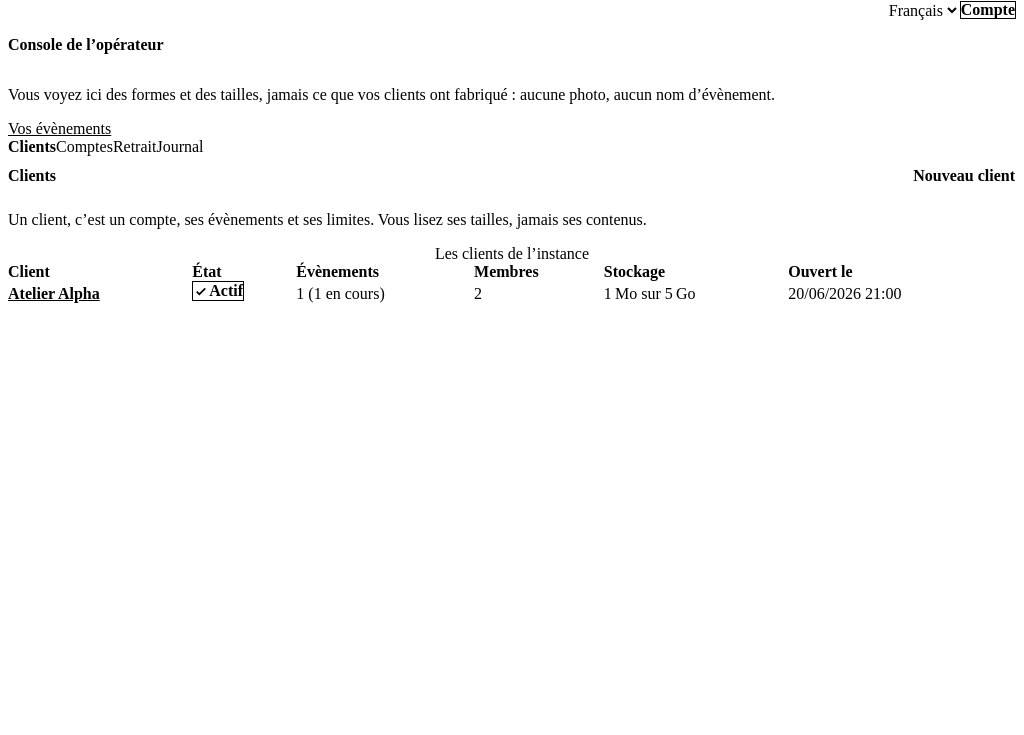
Test: opening a client › the invitation link that exists nowhere else (H10) › asks before following the link to the client, and says what is lost
Click the button "Nouveau client": coordinates (964, 176) x1=912 y1=167 x2=1016 y2=185
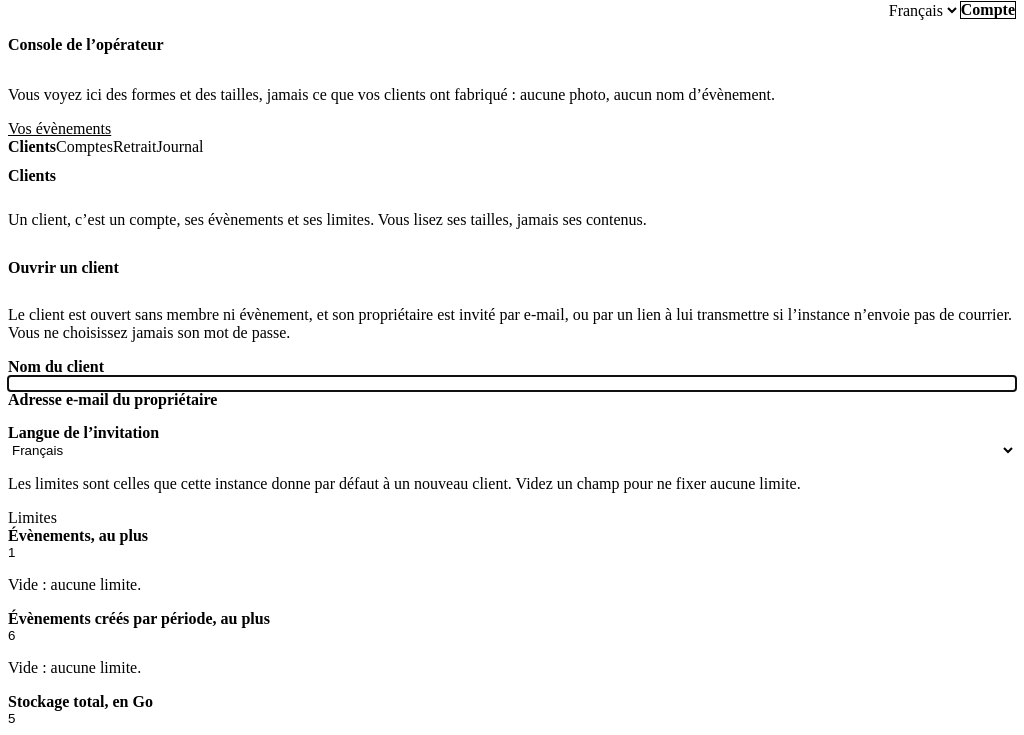
Expected: the field labelled "Évènements, au plus" is shown, x1=8 y1=545 x2=1016 y2=560
In the field labelled "Nom du client": coordinates (512, 384) x1=8 y1=376 x2=1016 y2=391, type "Atelier Alpha"
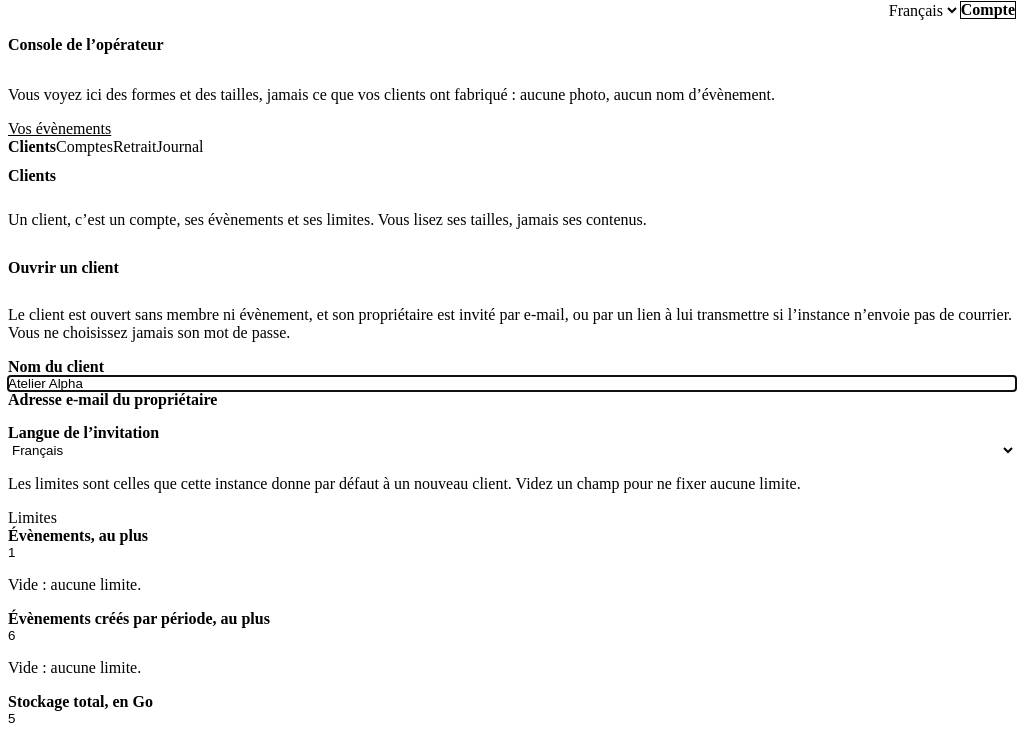
In the field labelled "Adresse e-mail du propriétaire": coordinates (512, 416) x1=8 y1=409 x2=1016 y2=424, type "camille@example.com"
(page scrolled)
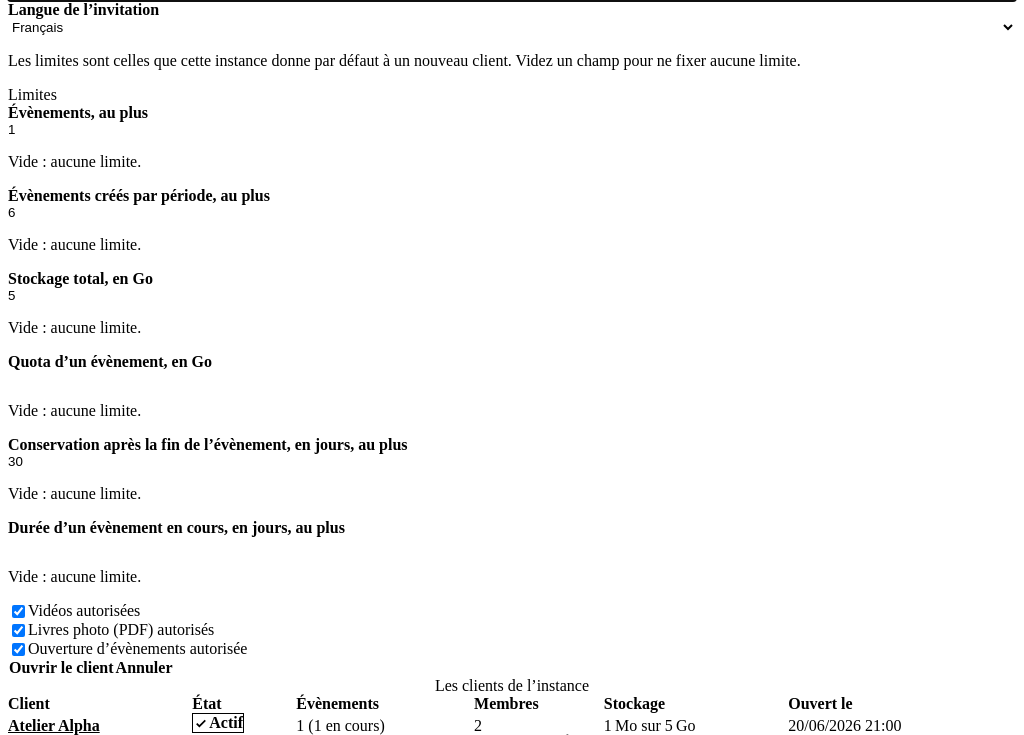
Click the button "Ouvrir le client": coordinates (61, 668) x1=8 y1=659 x2=115 y2=677
(page scrolled)
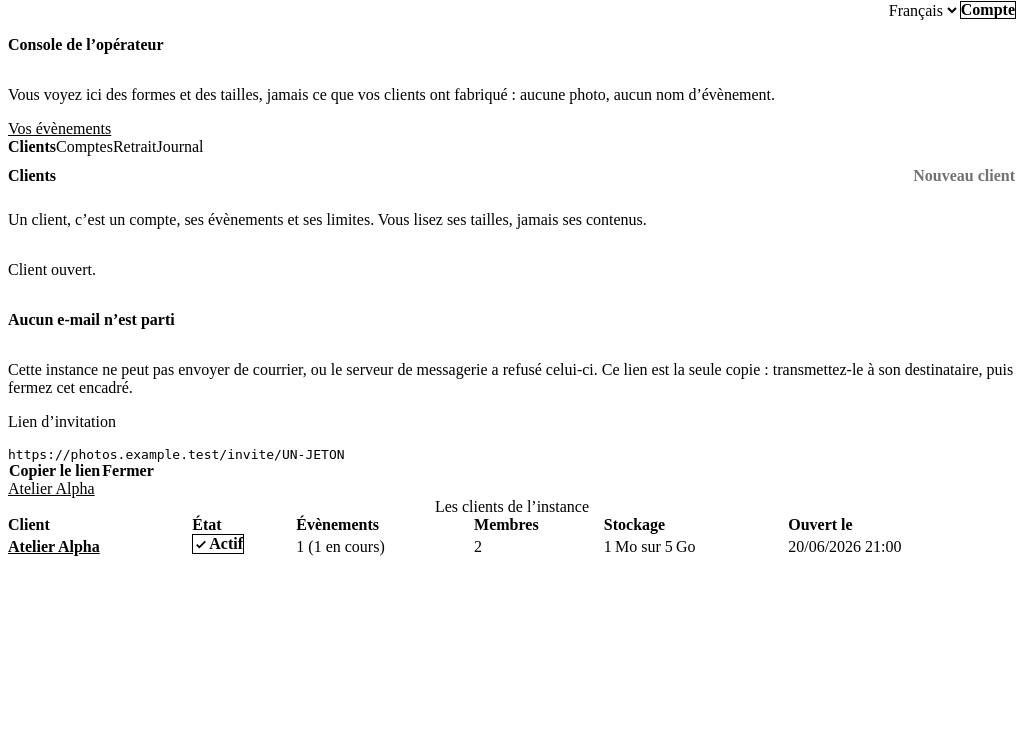
Expected: the text "Client ouvert." is shown, x1=8 y1=261 x2=96 y2=278
Click the link "Atelier Alpha" below "Lien d’invitation": coordinates (51, 489) x1=8 y1=480 x2=95 y2=497
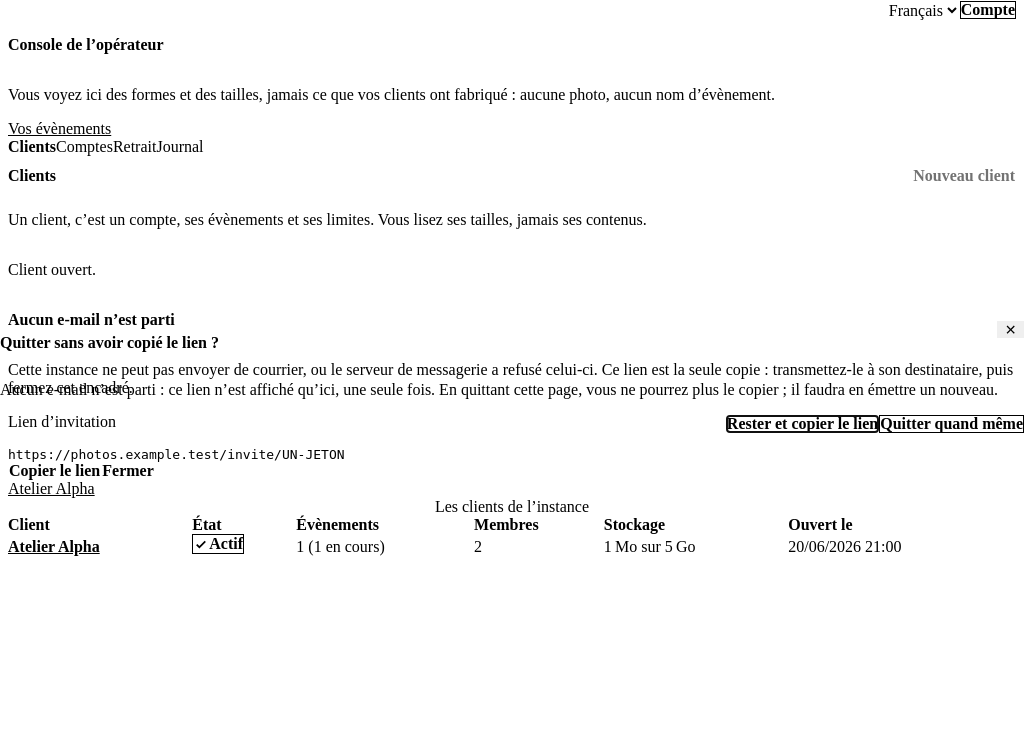
Expected: the text "https://photos.example.test/invite/UN-JETON" is shown, x1=8 y1=447 x2=344 y2=462
Expected: the text "Aucun e-mail n’est parti : ce lien n’est affiché qu’ici, une seule fois. En quittant cette page, vous ne pourrez plus le" is shown, x1=0 y1=381 x2=998 y2=398
